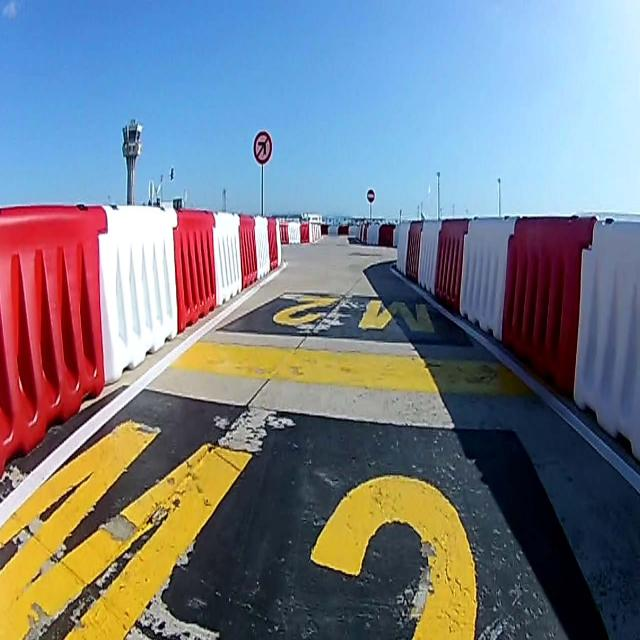soladonulmez: (254, 132, 272, 164)
